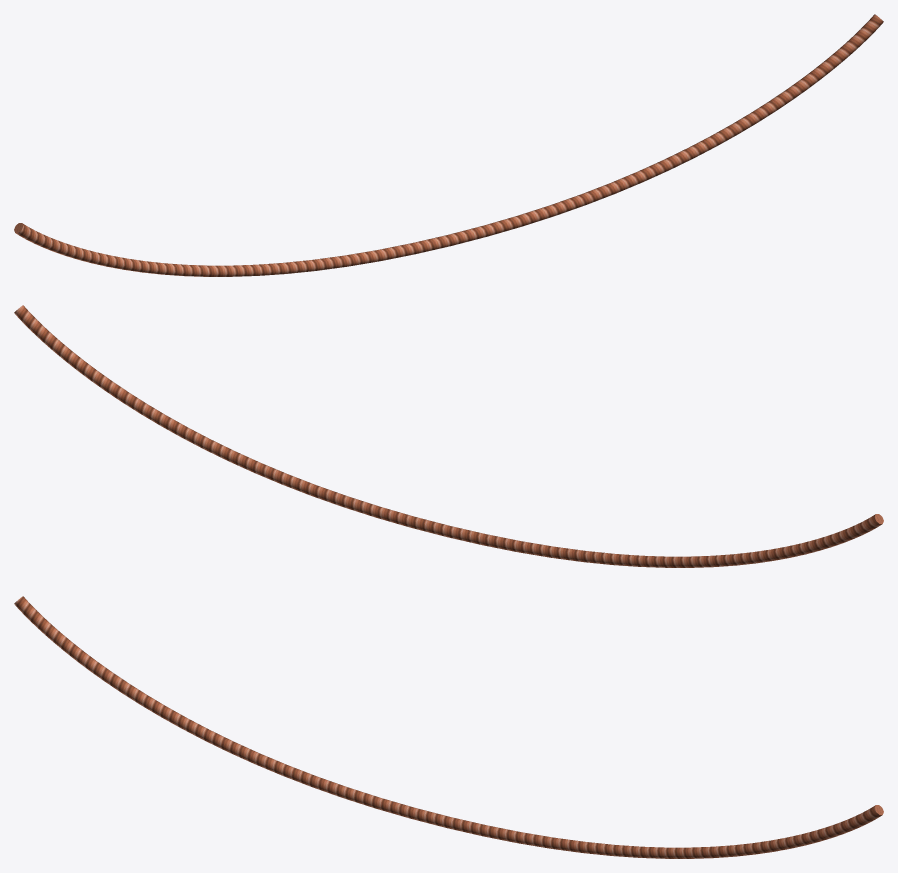
Rendered from static.glb.
3 renders of one model, top to bottom at view 1: azimuth 30°, elevation 25°; view 2: azimuth 150°, elevation 25°; view 3: azimuth 330°, elevation 25°, orthographic.
Parts seen in each view (by area): view 1: Sweep; view 2: Sweep; view 3: Sweep.
Part boxes in pixels (x1=…): Sweep: x1=14, y1=14, x2=883, y2=276; Sweep: x1=14, y1=305, x2=883, y2=567; Sweep: x1=14, y1=596, x2=883, y2=858.
Size of the model in its own units: 4.03 by 0.5653 by 0.0492.
Materials: 1 (1 with a texture image).
